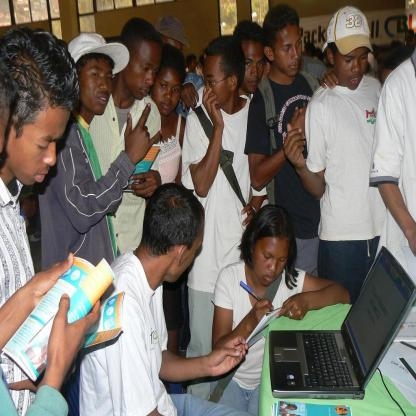board: (270, 246, 416, 408)
